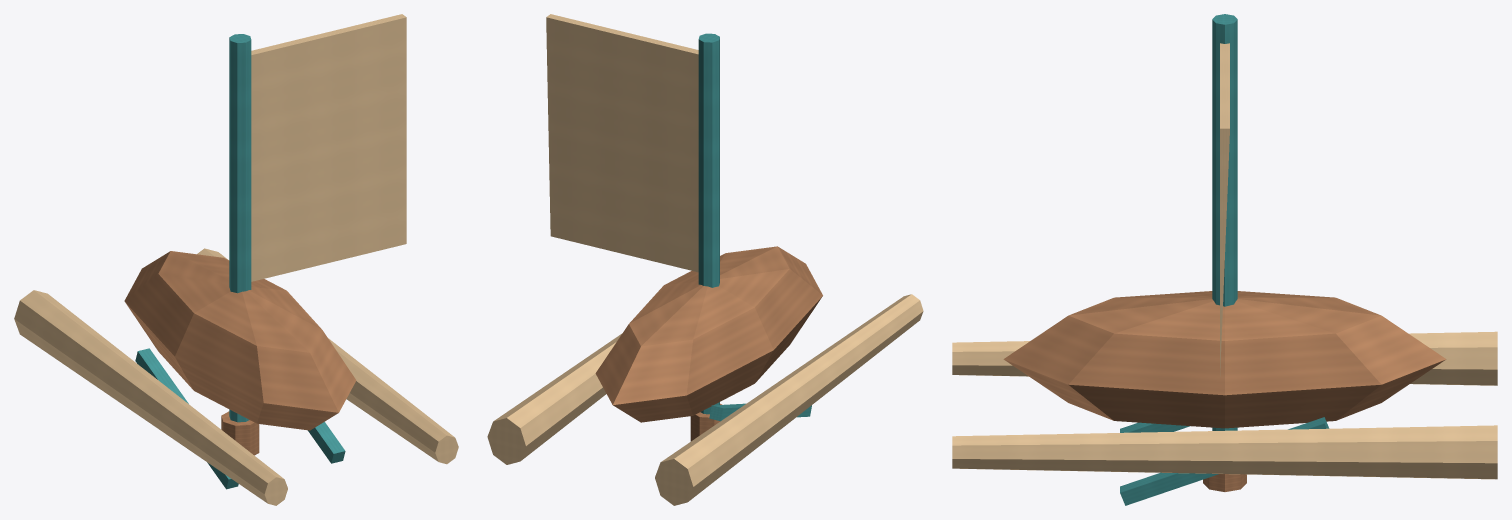
File: atlas100-s096-a01.glb
3 renders of one model, left to right at view 1: azimuth 30°, elevation 25°; view 2: azimuth 150°, elevation 25°; view 3: azimuth 270°, elevation 25°, orthographic. The views are drawn at different scales.
Visible parts, largest first — view 1: atlas100-s096-a01:part-007, atlas100-s096-a01:part-000, atlas100-s096-a01:part-003, atlas100-s096-a01:part-005, atlas100-s096-a01:part-004, atlas100-s096-a01:part-001, atlas100-s096-a01:part-006, atlas100-s096-a01:part-002; view 2: atlas100-s096-a01:part-007, atlas100-s096-a01:part-000, atlas100-s096-a01:part-003, atlas100-s096-a01:part-004, atlas100-s096-a01:part-005, atlas100-s096-a01:part-006; view 3: atlas100-s096-a01:part-000, atlas100-s096-a01:part-004, atlas100-s096-a01:part-003, atlas100-s096-a01:part-005, atlas100-s096-a01:part-007, atlas100-s096-a01:part-002, atlas100-s096-a01:part-006.
Boxes of the visible parts, x1,y1,x2,y2 form: atlas100-s096-a01:part-007: (251, 14, 406, 281); atlas100-s096-a01:part-000: (124, 251, 356, 430); atlas100-s096-a01:part-003: (14, 290, 287, 505); atlas100-s096-a01:part-005: (229, 34, 251, 422); atlas100-s096-a01:part-004: (197, 248, 458, 464); atlas100-s096-a01:part-001: (135, 348, 238, 489); atlas100-s096-a01:part-006: (221, 411, 259, 455); atlas100-s096-a01:part-002: (308, 422, 345, 463); atlas100-s096-a01:part-007: (546, 14, 698, 272); atlas100-s096-a01:part-000: (595, 246, 822, 422); atlas100-s096-a01:part-003: (655, 294, 923, 505); atlas100-s096-a01:part-004: (487, 333, 622, 464); atlas100-s096-a01:part-005: (698, 33, 719, 414); atlas100-s096-a01:part-006: (690, 403, 722, 441); atlas100-s096-a01:part-000: (1003, 291, 1446, 428); atlas100-s096-a01:part-004: (952, 425, 1497, 479); atlas100-s096-a01:part-003: (952, 331, 1497, 385); atlas100-s096-a01:part-005: (1212, 14, 1237, 430); atlas100-s096-a01:part-007: (1220, 43, 1229, 376); atlas100-s096-a01:part-002: (1120, 417, 1329, 505); atlas100-s096-a01:part-006: (1203, 474, 1246, 491).
Bounding box in the file's own units: 2.05 × 3 × 3.2.
3 materials, 3 textured.
